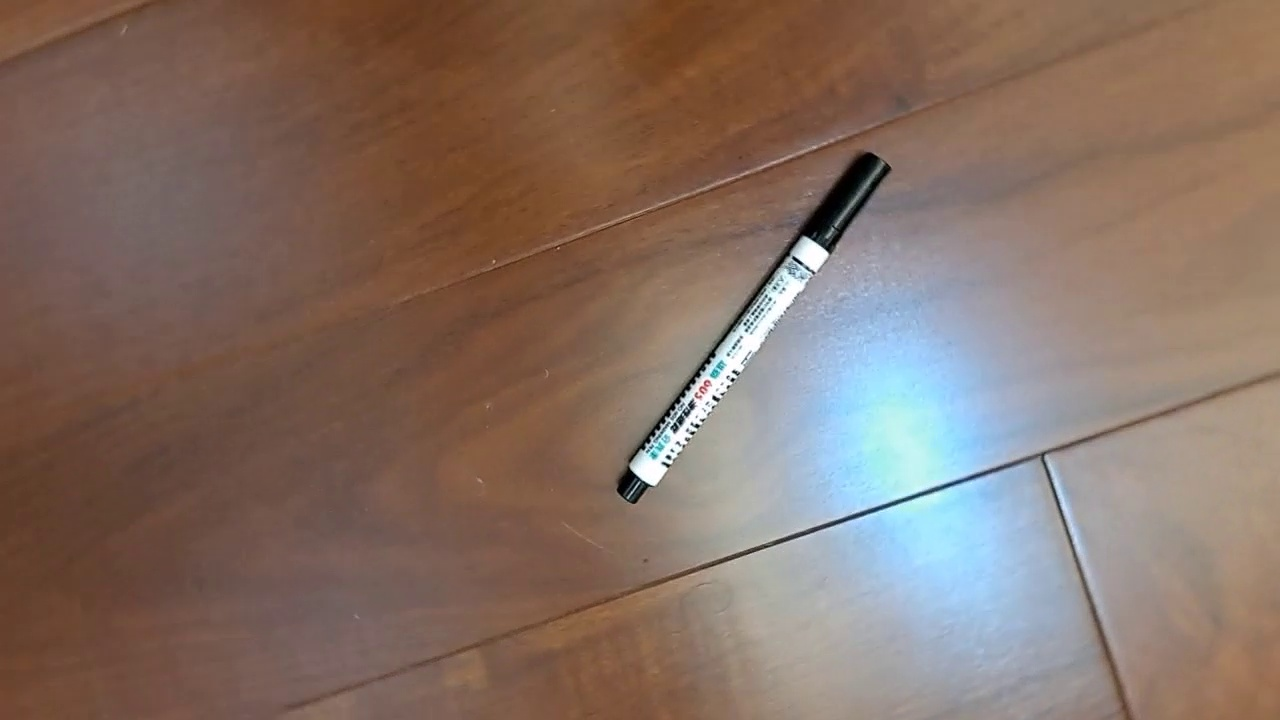pen: (616, 150, 893, 505)
